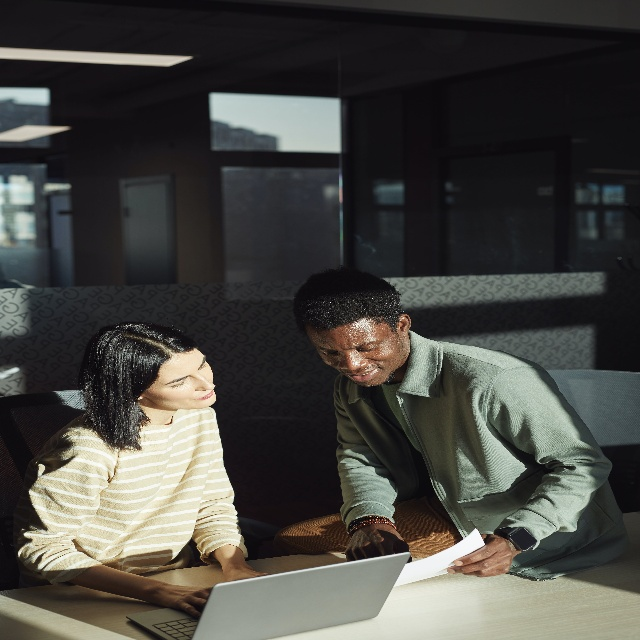Sin_guantes: (446, 532, 514, 578), (345, 522, 413, 564), (155, 580, 210, 619)
